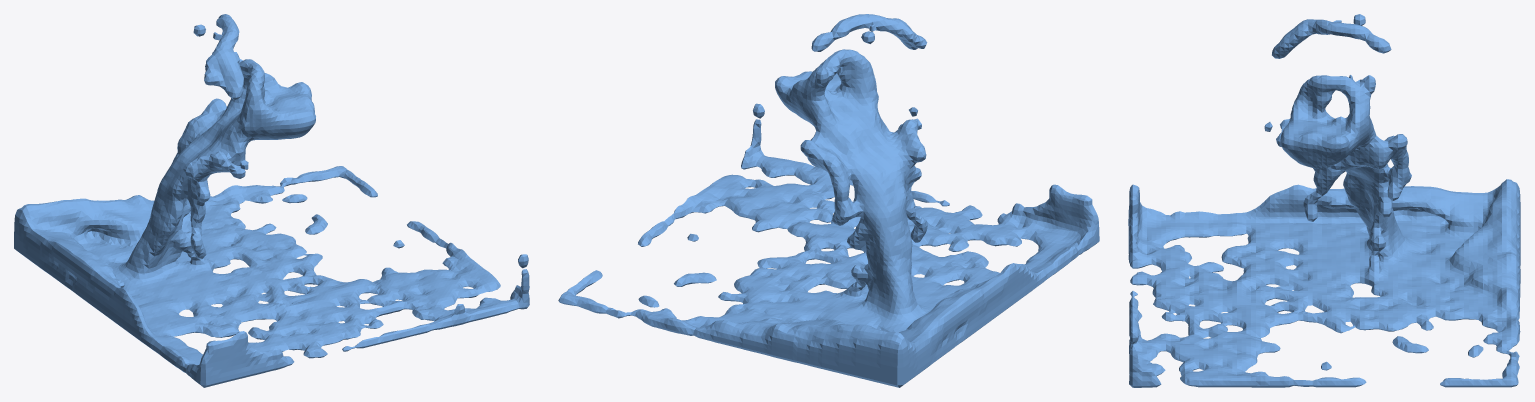
Rendered from water_0057.glb.
3 renders of one model, left to right at view 1: azimuth 30°, elevation 25°; view 2: azimuth 150°, elevation 25°; view 3: azimuth 270°, elevation 25°, orthographic. The views are drawn at different scales.
Visible parts, largest first — view 1: Water_0057; view 2: Water_0057; view 3: Water_0057.
Boxes of the visible parts, x1,y1,x2,y2 form: Water_0057: (14, 14, 529, 387); Water_0057: (558, 14, 1099, 387); Water_0057: (1128, 14, 1520, 387).
Size of the model in its own units: 4.83 by 3.63 by 4.83.
